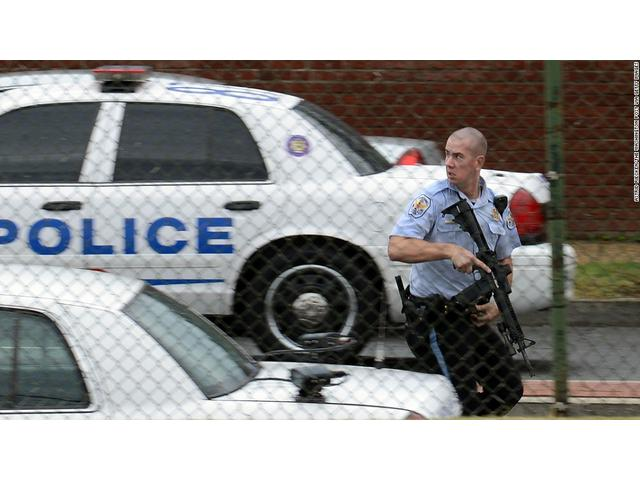rifle: (436, 196, 541, 382)
